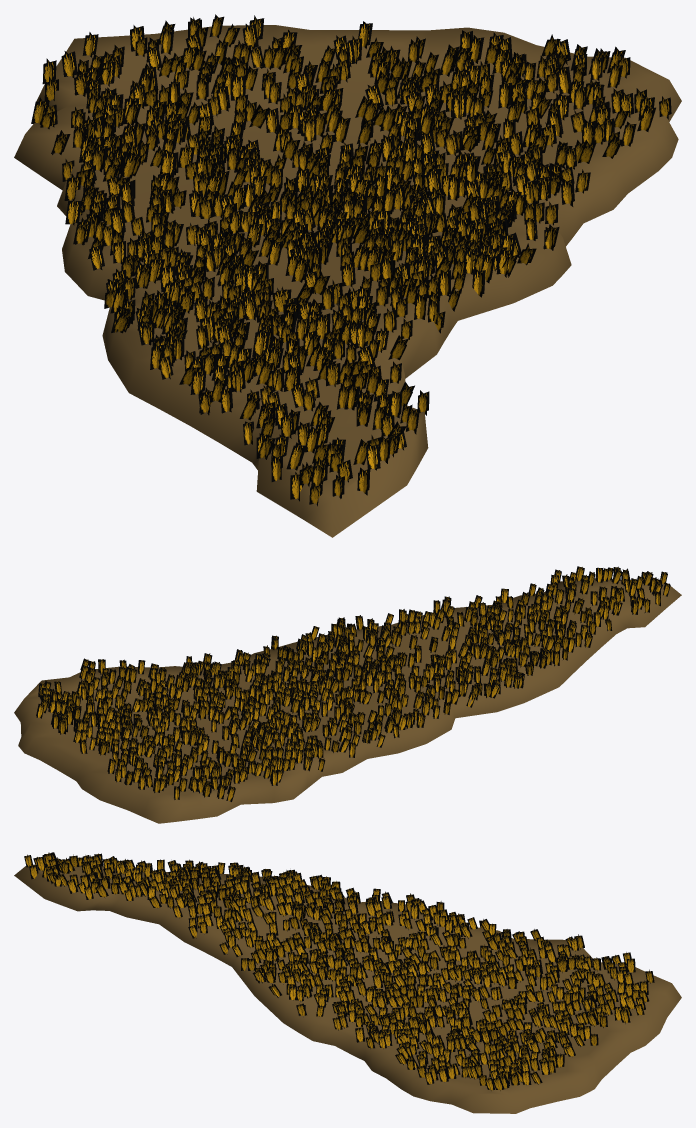
The model's file is hayfield large.fbx.
The picture shows the model from 3 angles, top to bottom: view 1: azimuth 30°, elevation 25°; view 2: azimuth 150°, elevation 25°; view 3: azimuth 270°, elevation 25°; orthographic projection. The views are drawn at different scales.
Visible parts, largest first — view 1: hayfield-large_LOD0; view 2: hayfield-large_LOD0; view 3: hayfield-large_LOD0.
Part boxes in pixels (x1,y1,x2,y2): hayfield-large_LOD0: (14,14,681,537); hayfield-large_LOD0: (14,566,681,823); hayfield-large_LOD0: (14,852,681,1113).
Size of what is drawn, in the model's own units: 137 by 21.42 by 187.
